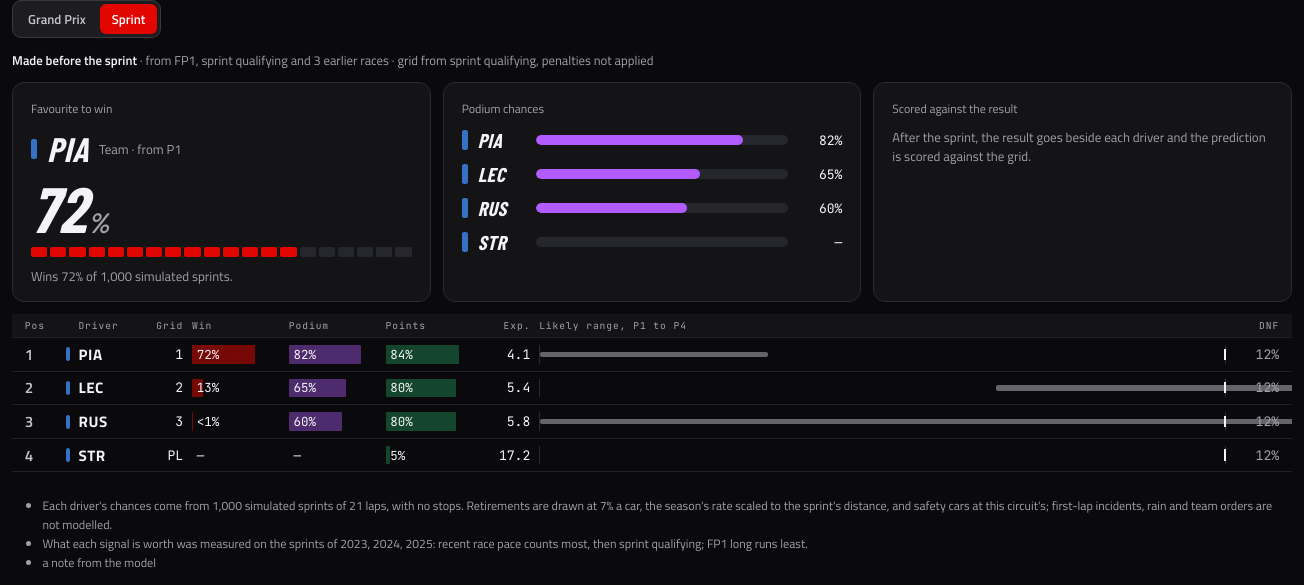
Test case: PredictionBoard › offers the sprint on a sprint weekend, and opens on it before the Grand Prix's qualifying
Expected: the text "Made before the sprint" is shown, [12,50,137,70]
Expected: the text "FP1, sprint qualifying and 3 earlier races" is shown, [12,50,654,70]
// The Grand Prix is one click away, and says why it is not there yet.
Click the radio button labelled "Grand Prix".
click(57, 19)  # box [16,4,98,34]
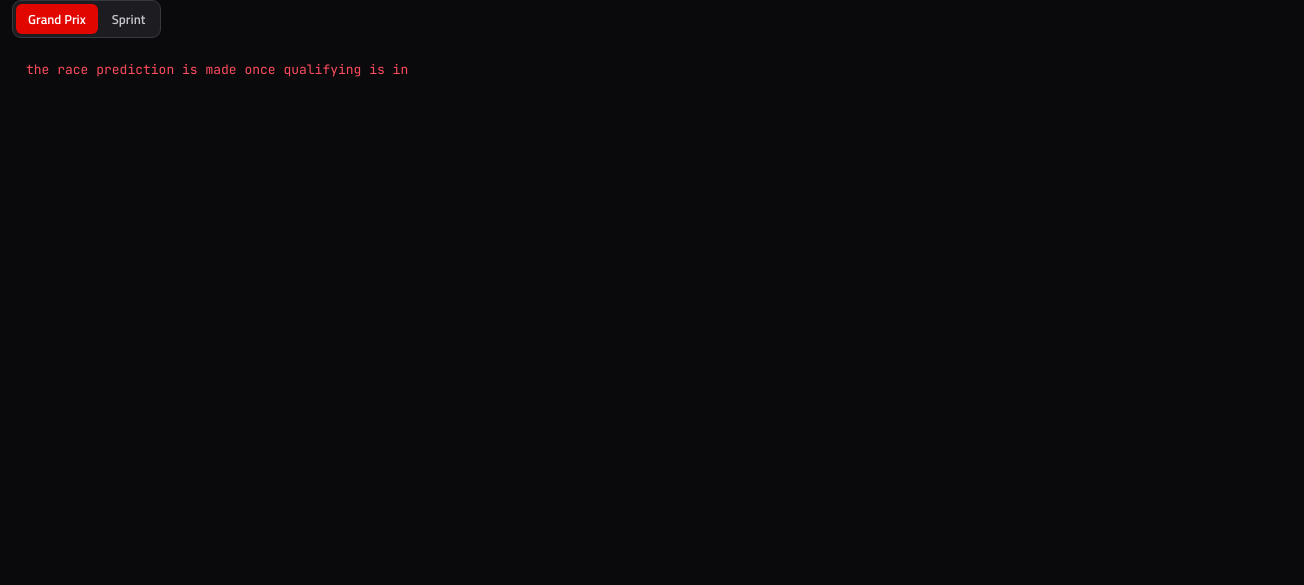
Expected: the radio button labelled "Sprint" is shown, [100,4,157,34]
Expected: the text "the race prediction is made once qualifying is in" is shown, [26,61,408,78]
